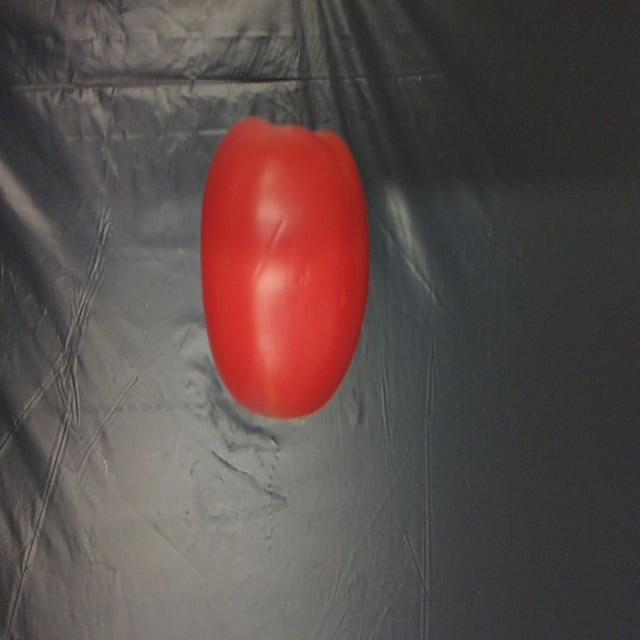kirmizi: (204, 108, 373, 430)
